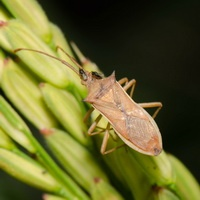insect: (14, 47, 162, 155)
